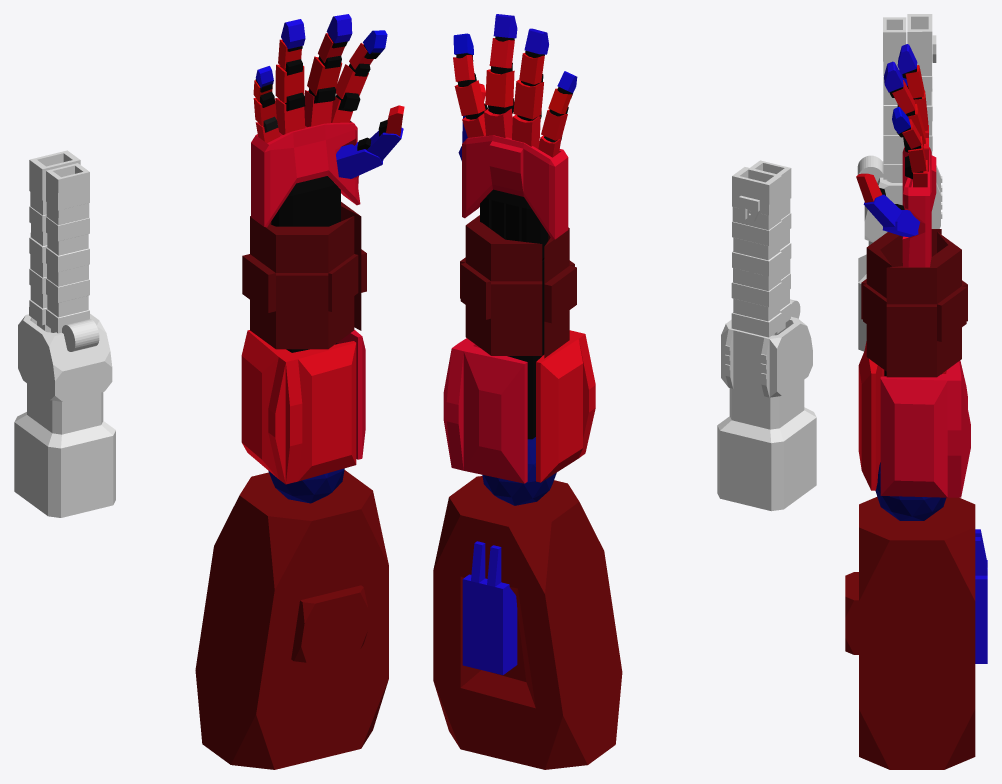
The model's file is handmecha.fbx.
The picture shows the model from 3 angles, left to right: view 1: azimuth 30°, elevation 25°; view 2: azimuth 150°, elevation 25°; view 3: azimuth 270°, elevation 25°; orthographic projection. The views are drawn at different scales.
Parts seen in each view (by area): view 1: Cube.023, Cube.026, Cube.021, Cylinder.015, Cube.028, Cube, Cube.025, Cube.001, Icosphere, Cube.022, Cylinder.014, Cube.002 (+5 smaller); view 2: Cube.023, Cube.026, Cube.022, Cylinder.014, Cube.025, Cube, Cube.021, Cube.024, Cylinder.015, Cube.001, Cube.028, Icosphere (+6 smaller); view 3: Cube.023, Cube.022, Cylinder.014, Cylinder.015, Cube.021, Cube, Cube.028, Cube.026, Cube.025, Cube.024, Icosphere, Cube.003 (+12 smaller).
Boxes of the visible parts, left/top/right/bottom form: Cube.023: left=195, top=470, right=388, bottom=769; Cube.026: left=14, top=314, right=115, bottom=517; Cube.021: left=241, top=330, right=356, bottom=484; Cylinder.015: left=242, top=216, right=358, bottom=349; Cube.028: left=46, top=163, right=89, bottom=333; Cube: left=251, top=121, right=360, bottom=227; Cube.025: left=29, top=150, right=80, bottom=325; Cube.001: left=271, top=176, right=340, bottom=226; Icosphere: left=268, top=468, right=344, bottom=503; Cube.022: left=337, top=330, right=365, bottom=459; Cylinder.014: left=269, top=202, right=366, bottom=330; Cube.002: left=336, top=142, right=383, bottom=178; Cube.023: left=433, top=476, right=622, bottom=769; Cube.026: left=717, top=316, right=816, bottom=511; Cube.022: left=443, top=338, right=527, bottom=483; Cylinder.014: left=460, top=215, right=542, bottom=355; Cube.025: left=731, top=167, right=781, bottom=337; Cube: left=462, top=135, right=568, bottom=239; Cube.021: left=536, top=330, right=595, bottom=482; Cube.024: left=462, top=541, right=517, bottom=675; Cylinder.015: left=544, top=227, right=576, bottom=358; Cube.001: left=480, top=189, right=548, bottom=260; Cube.028: left=750, top=160, right=791, bottom=324; Icosphere: left=482, top=437, right=556, bottom=505; Cube.023: left=845, top=497, right=975, bottom=769; Cube.022: left=880, top=360, right=970, bottom=497; Cylinder.014: left=886, top=231, right=967, bottom=377; Cylinder.015: left=861, top=229, right=941, bottom=371; Cube.021: left=858, top=341, right=946, bottom=490; Cube: left=902, top=147, right=936, bottom=267; Cube.028: left=883, top=17, right=906, bottom=179; Cube.026: left=858, top=161, right=942, bottom=351; Cube.025: left=907, top=14, right=932, bottom=155; Cube.024: left=975, top=529, right=987, bottom=663; Icosphere: left=875, top=462, right=946, bottom=520; Cube.003: left=863, top=194, right=901, bottom=227.
Size of the model in its own units: 309 by 595 by 111.
